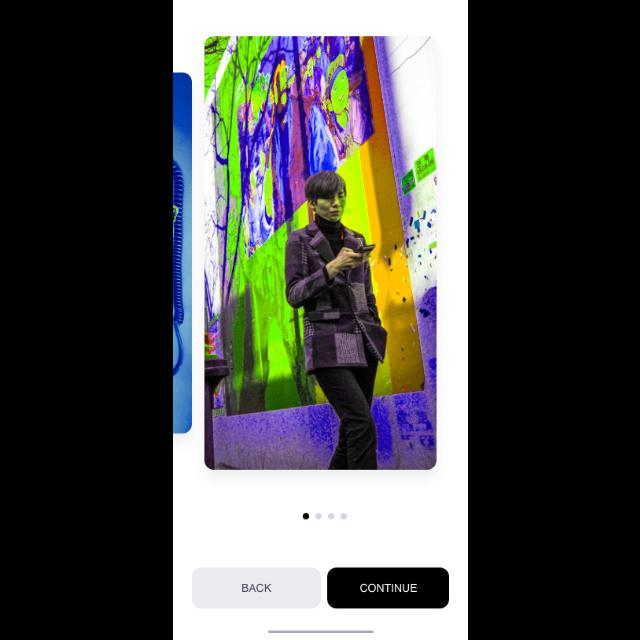image: (205, 37, 437, 469), (173, 74, 191, 434)
pageindicator: (302, 512, 348, 520)
textbutton: (192, 568, 321, 608), (327, 568, 449, 608)
